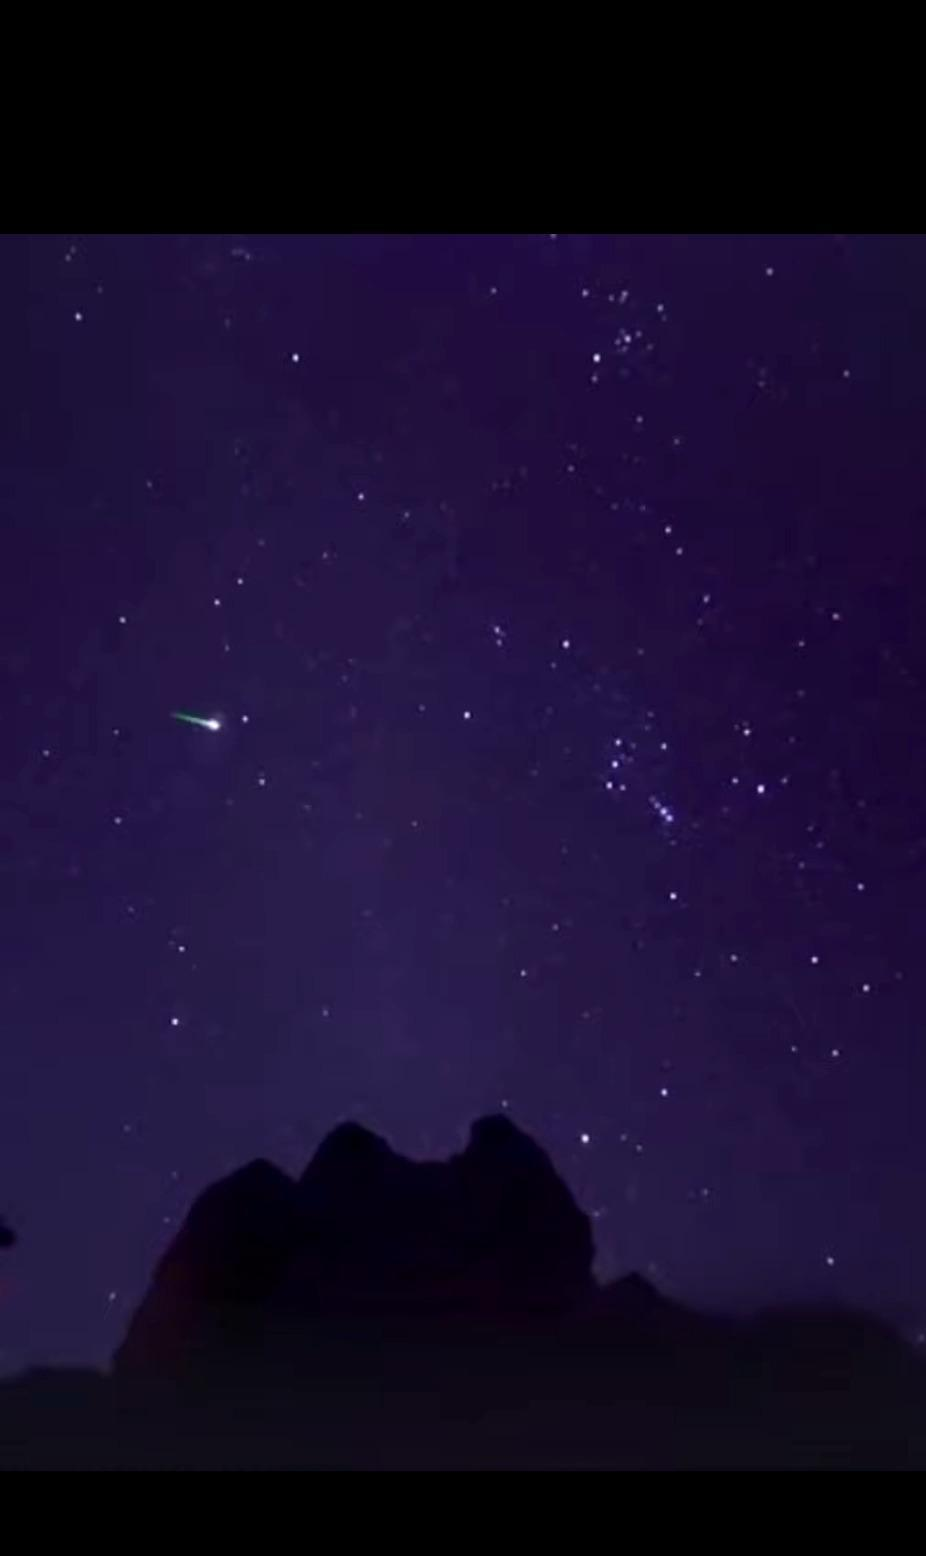meteorite: (148, 695, 244, 748)
